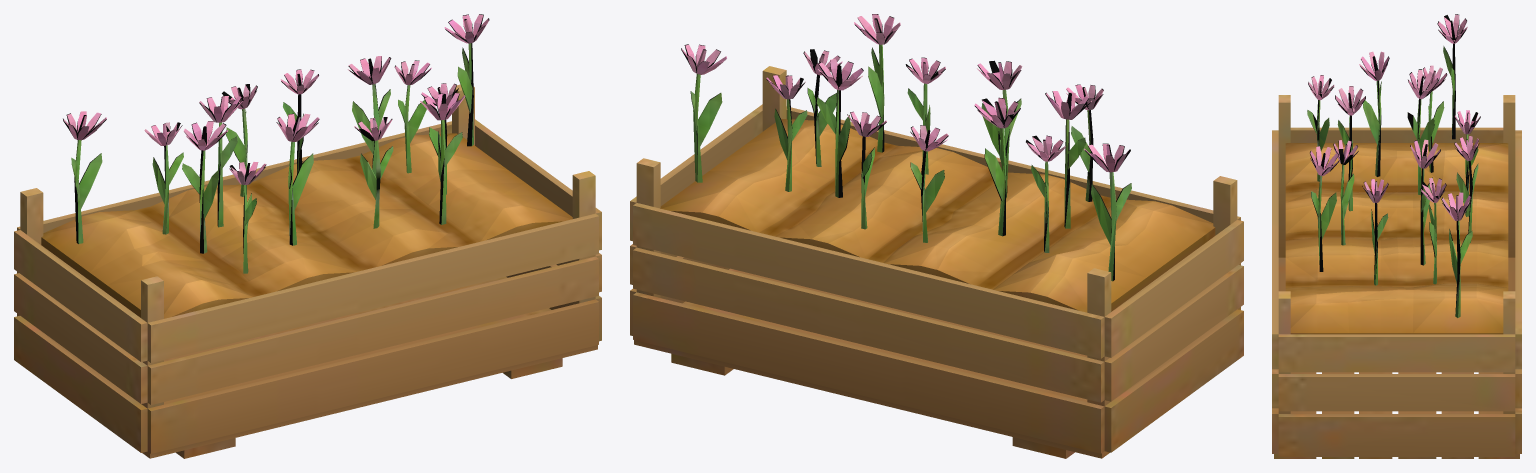
The model's file is flowerbed_crate_low.glb.
3 views of the same model, side by side, from view 1: azimuth 30°, elevation 25°; view 2: azimuth 150°, elevation 25°; view 3: azimuth 270°, elevation 25° (orthographic). The views are drawn at different scales.
Parts seen in each view (by area): view 1: flowerbed_crate_low; view 2: flowerbed_crate_low; view 3: flowerbed_crate_low.
Part boxes in pixels (box(x1,y1,x2,y2)): flowerbed_crate_low: box(14, 14, 601, 458); flowerbed_crate_low: box(630, 14, 1243, 458); flowerbed_crate_low: box(1272, 14, 1521, 458).
Size of the model in its own units: 1.21 by 0.6915 by 0.61.
1 material, 1 textured.
